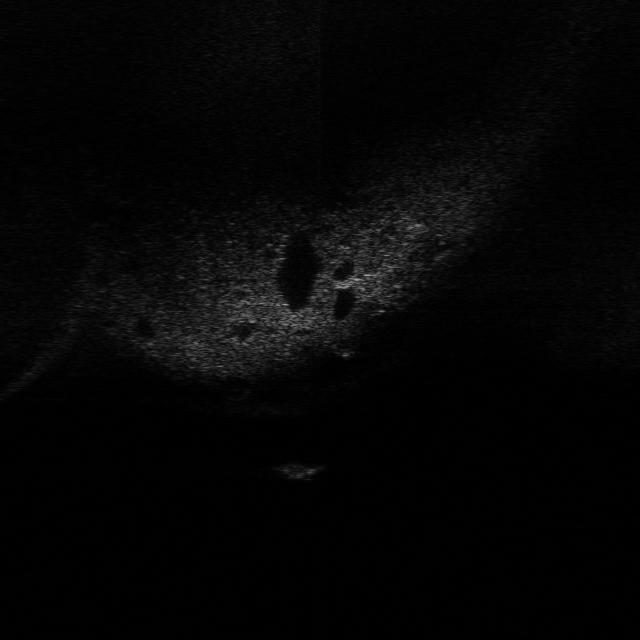ball: (324, 326, 364, 358)
cube: (268, 456, 324, 484)
